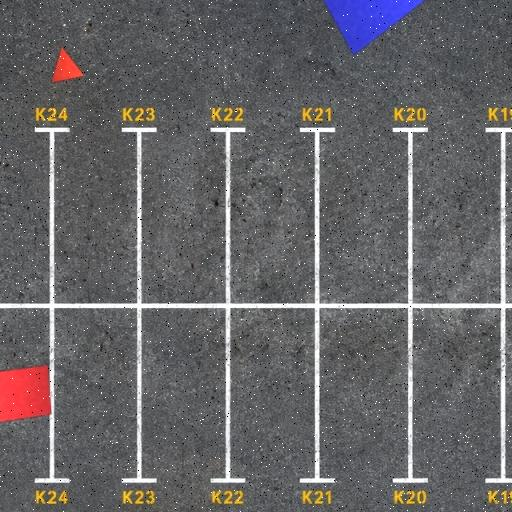BLUE_SQUARE: (302, 0, 438, 57)
RED_SQUARE: (0, 364, 52, 423)
